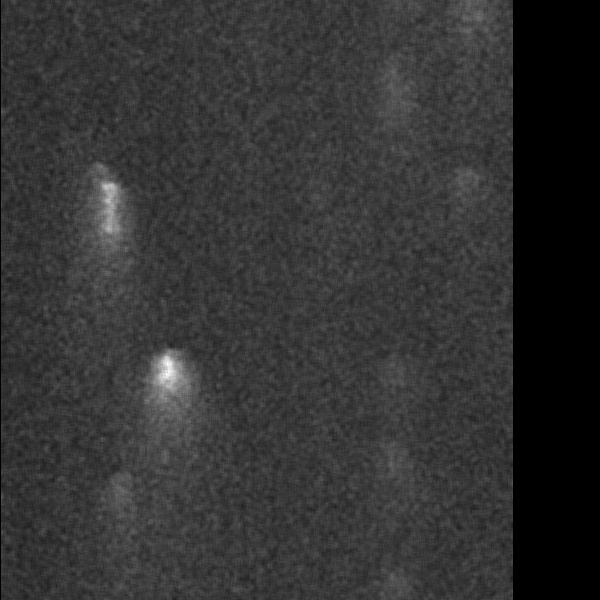spark: (88, 174, 130, 322), (148, 344, 188, 486), (86, 471, 144, 543), (380, 52, 409, 141), (374, 353, 418, 408), (373, 438, 414, 491), (450, 163, 484, 222), (380, 565, 403, 600)
